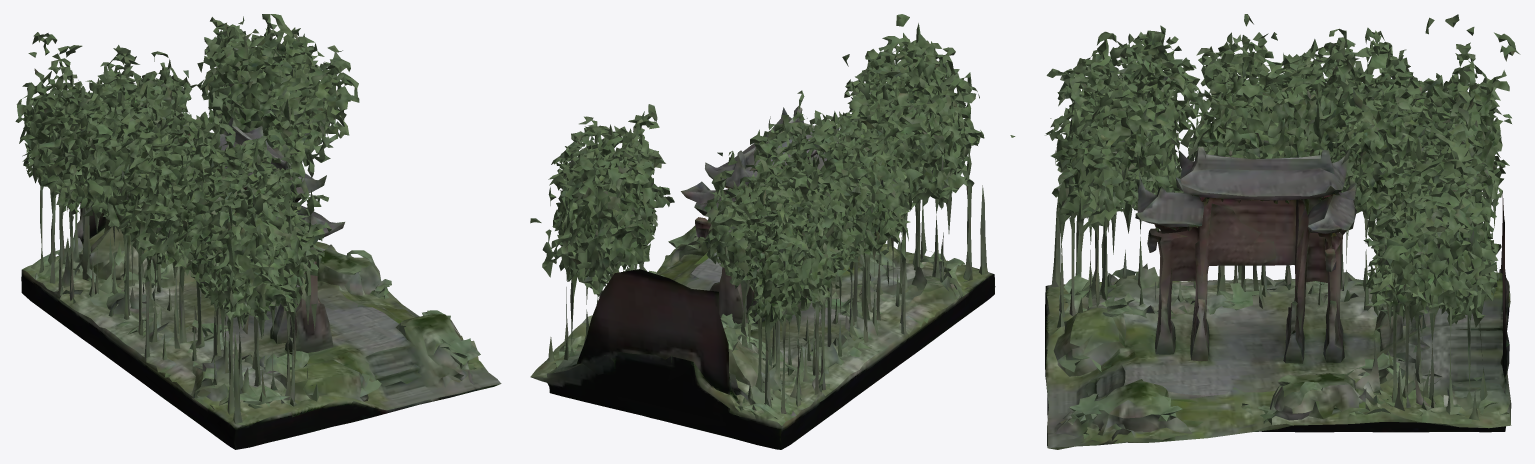
Rendered from bamboo_diorama_opt.glb.
The picture shows the model from 3 angles, left to right: view 1: azimuth 30°, elevation 25°; view 2: azimuth 150°, elevation 25°; view 3: azimuth 270°, elevation 25°; orthographic projection. The views are drawn at different scales.
Visible parts, largest first — view 1: geometry_0; view 2: geometry_0; view 3: geometry_0.
Part boxes in pixels (x1,y1,x2,y2): geometry_0: (15, 14, 501, 449); geometry_0: (530, 14, 1015, 449); geometry_0: (1045, 14, 1520, 449).
Bounding box in the file's own units: 0.6 × 0.5492 × 0.7506.
Materials: 1 (1 with a texture image).
